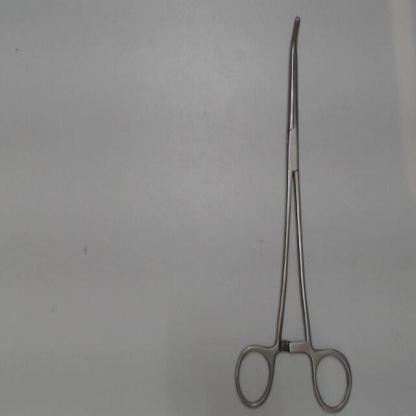Lahey Forceps: (229, 11, 357, 414)
